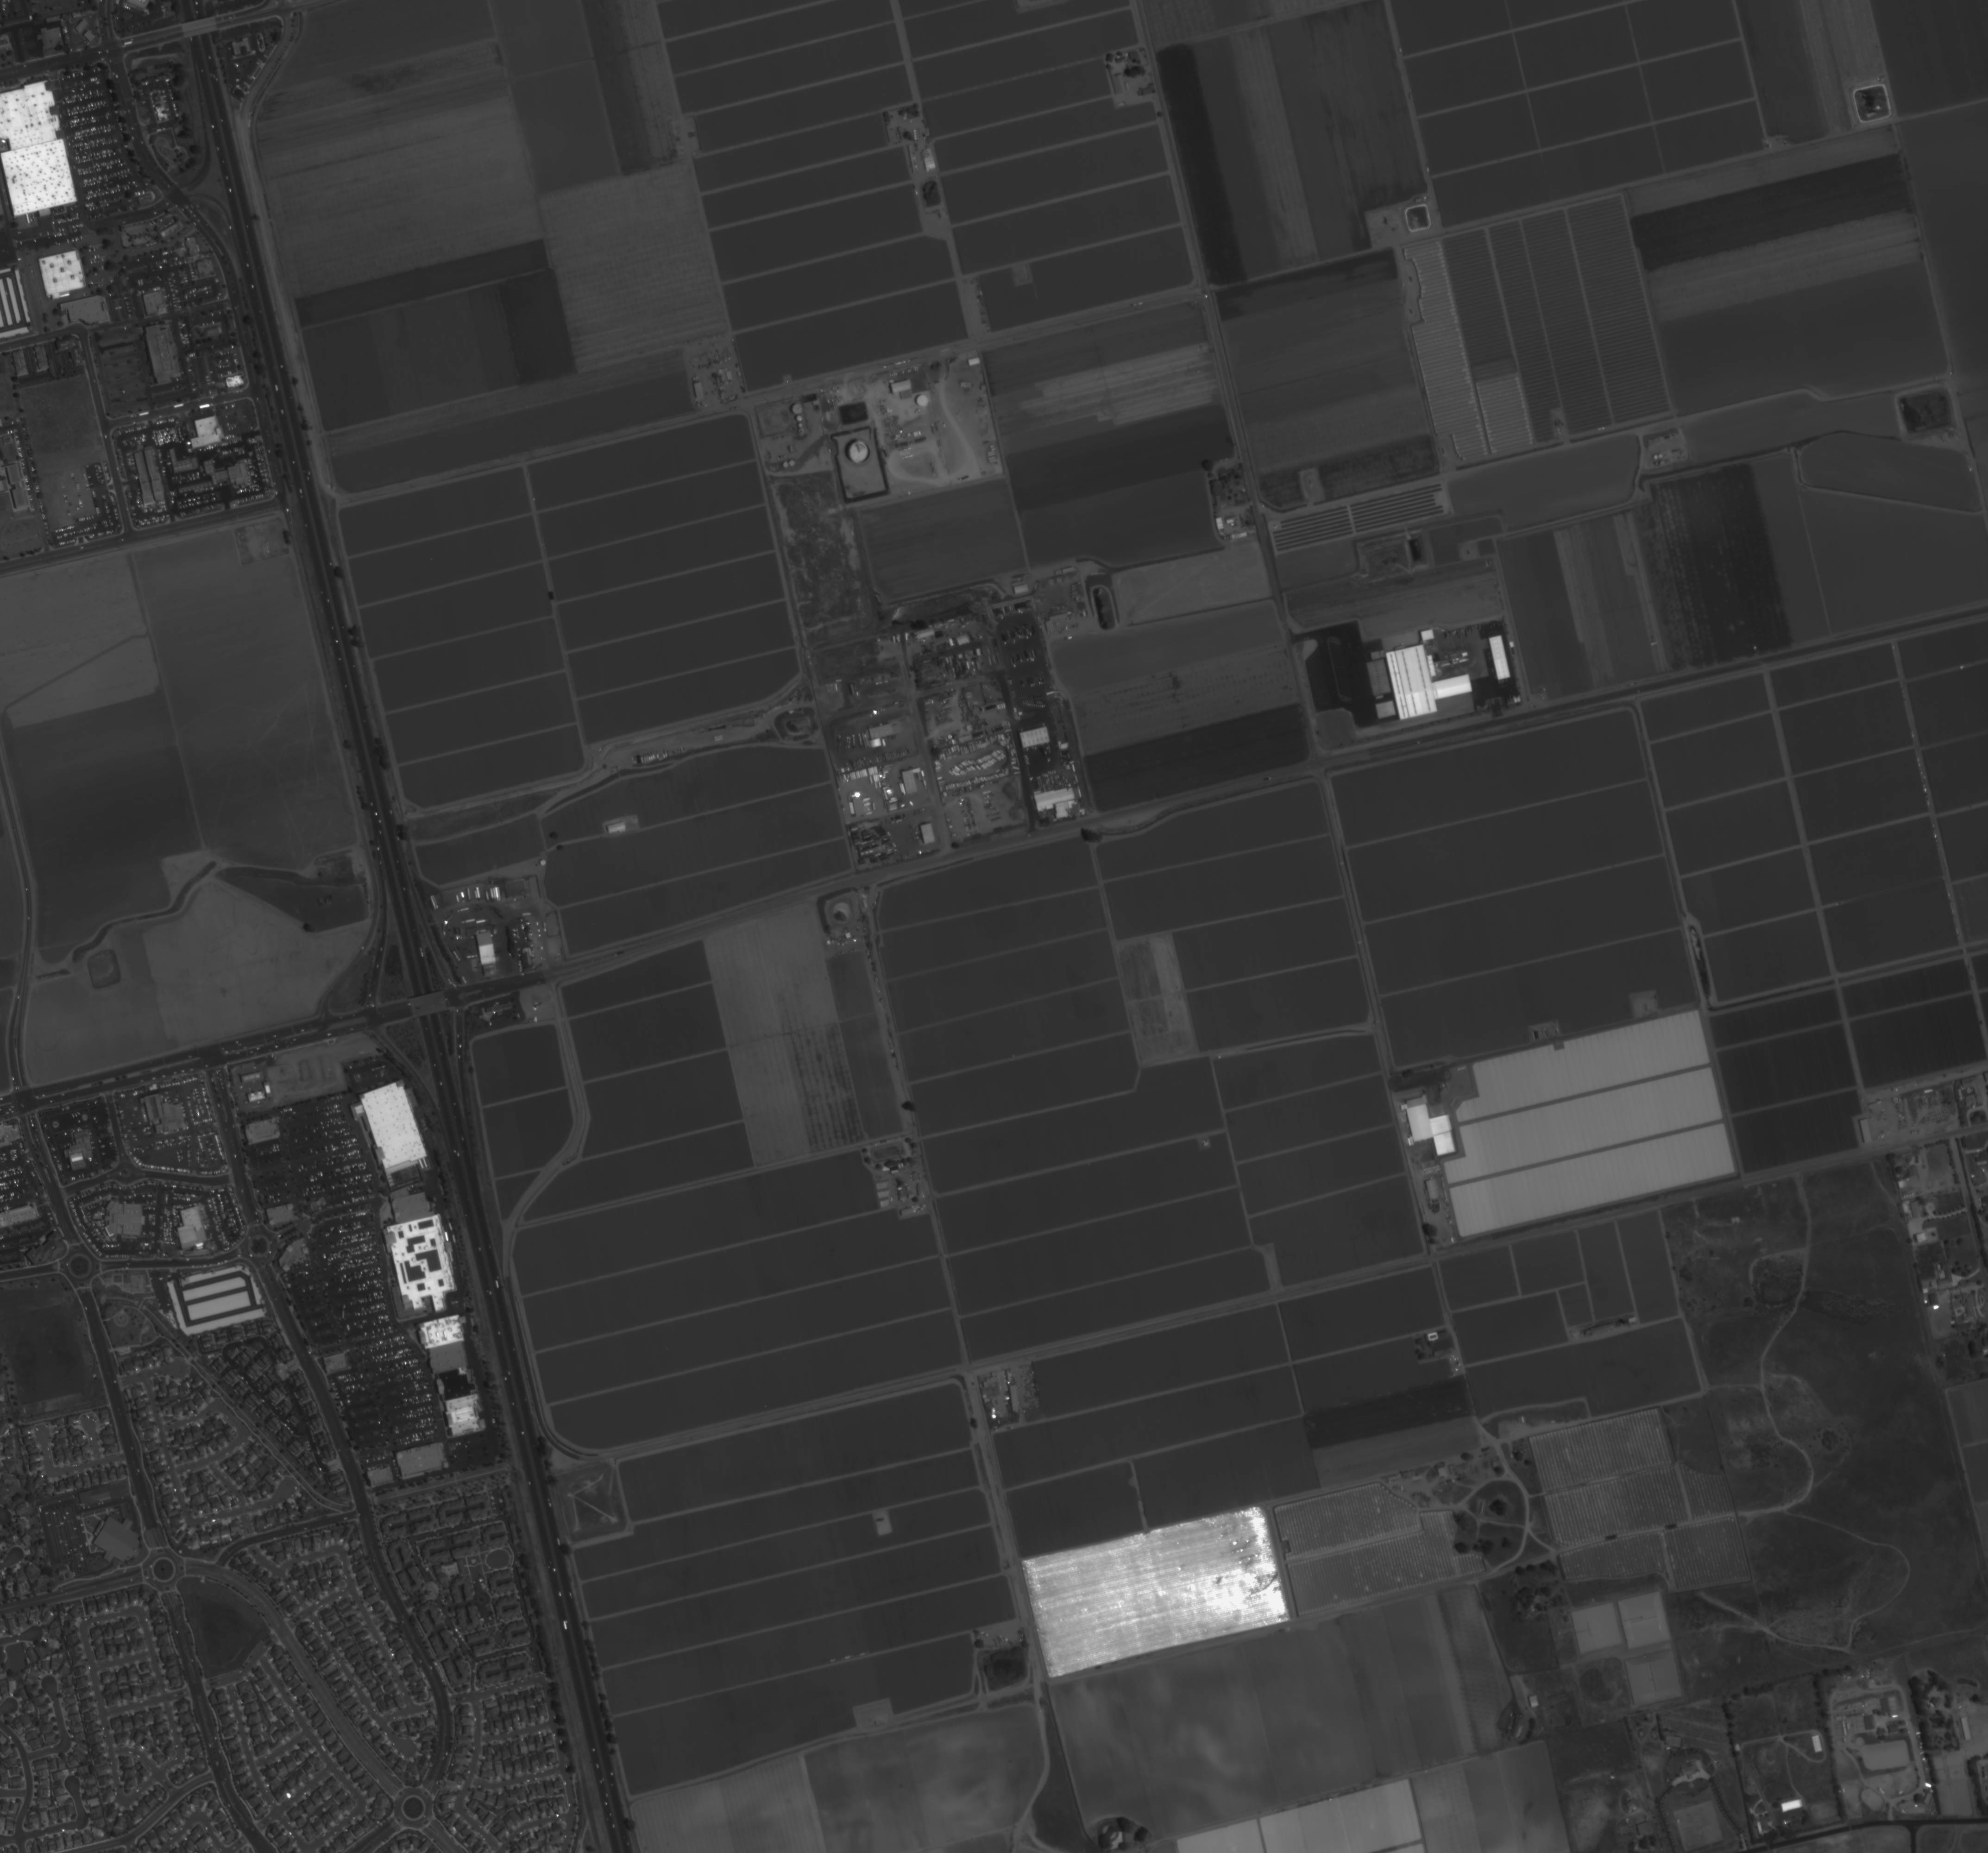roundabout: (150, 1556, 178, 1585), (67, 1251, 93, 1280), (401, 1793, 427, 1822), (247, 1234, 271, 1260)
storage tank: (849, 439, 871, 464), (916, 393, 929, 407), (792, 403, 804, 415), (795, 415, 804, 423), (789, 460, 797, 467), (540, 859, 547, 866), (782, 461, 789, 469), (798, 422, 804, 429)
